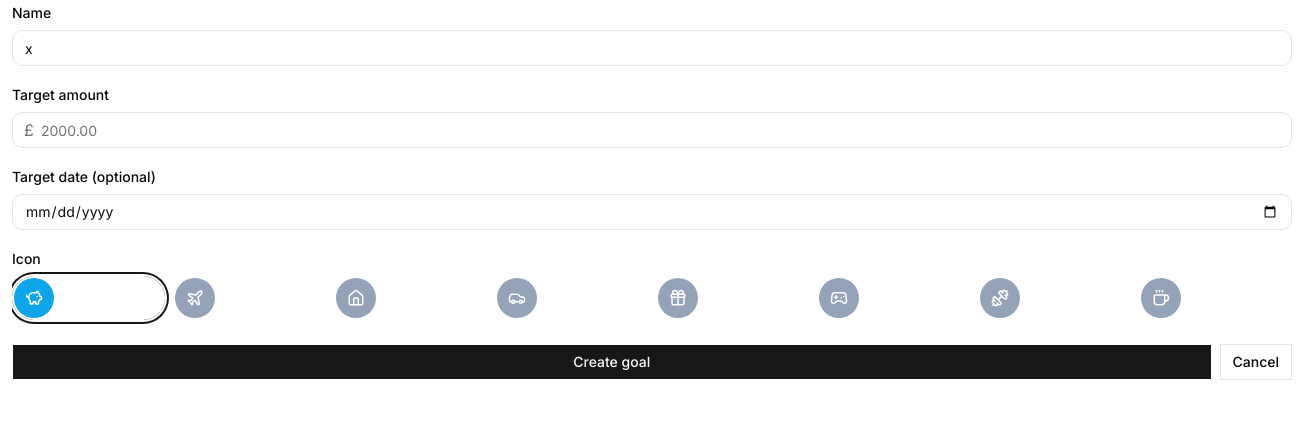
Test case: GoalForm (KAN-65) › keeps the form open and surfaces server error on failure
In the number field labelled "Target amount": (652, 130) left=12, top=112, right=1292, bottom=148, type "100"
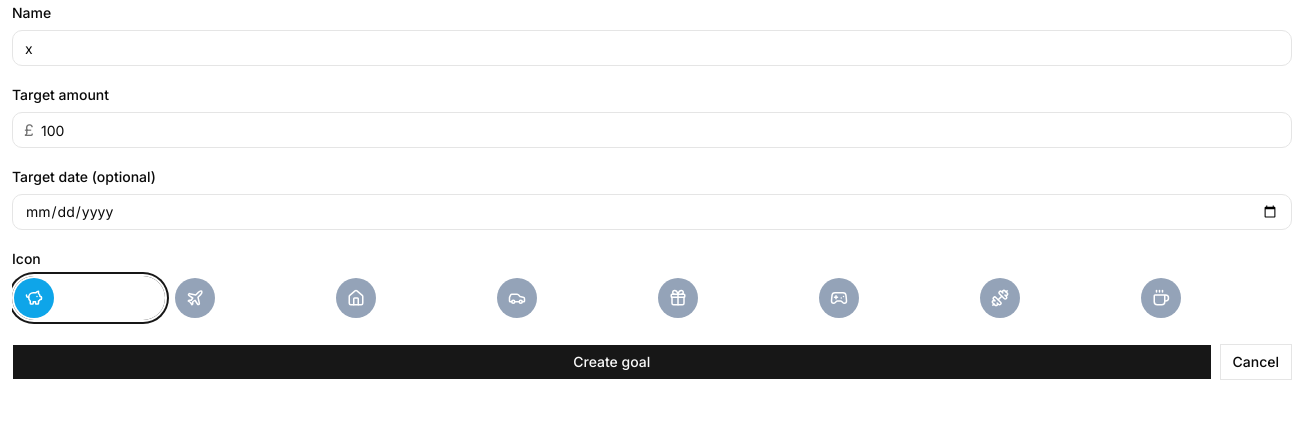
Click the button "Create goal": (612, 362) left=12, top=344, right=1212, bottom=380
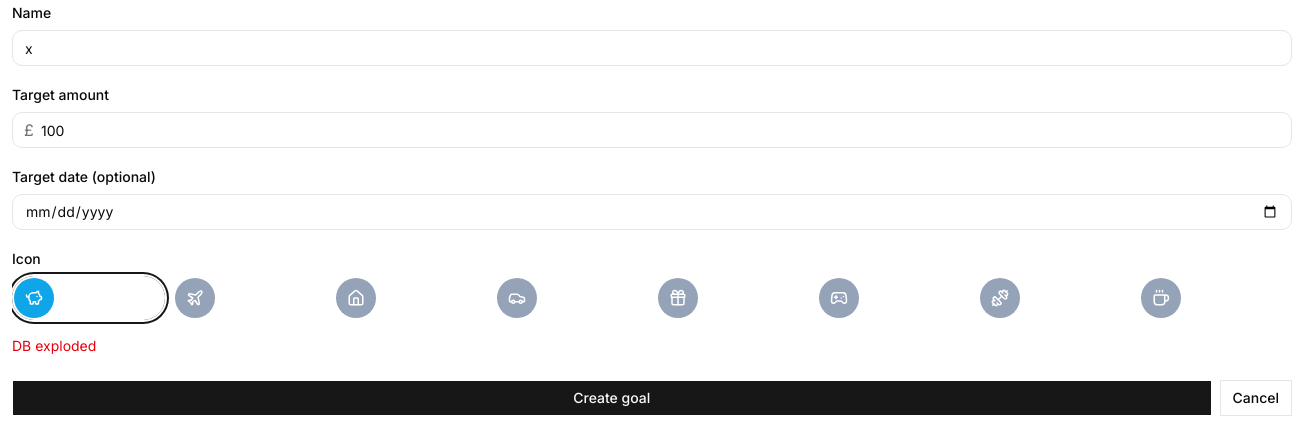
Result: the text "DB exploded" is shown at left=12, top=337, right=96, bottom=354
